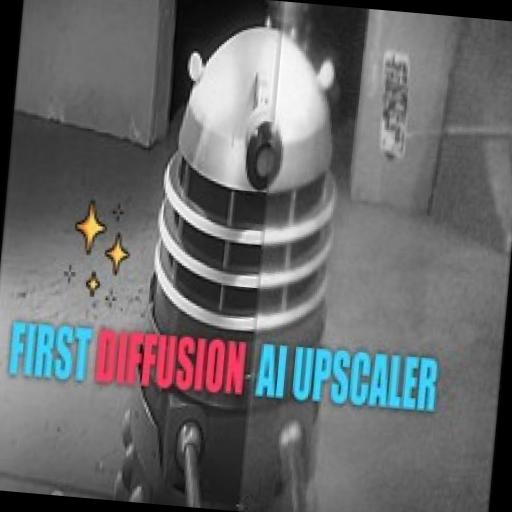dalek: (97, 11, 364, 512)
